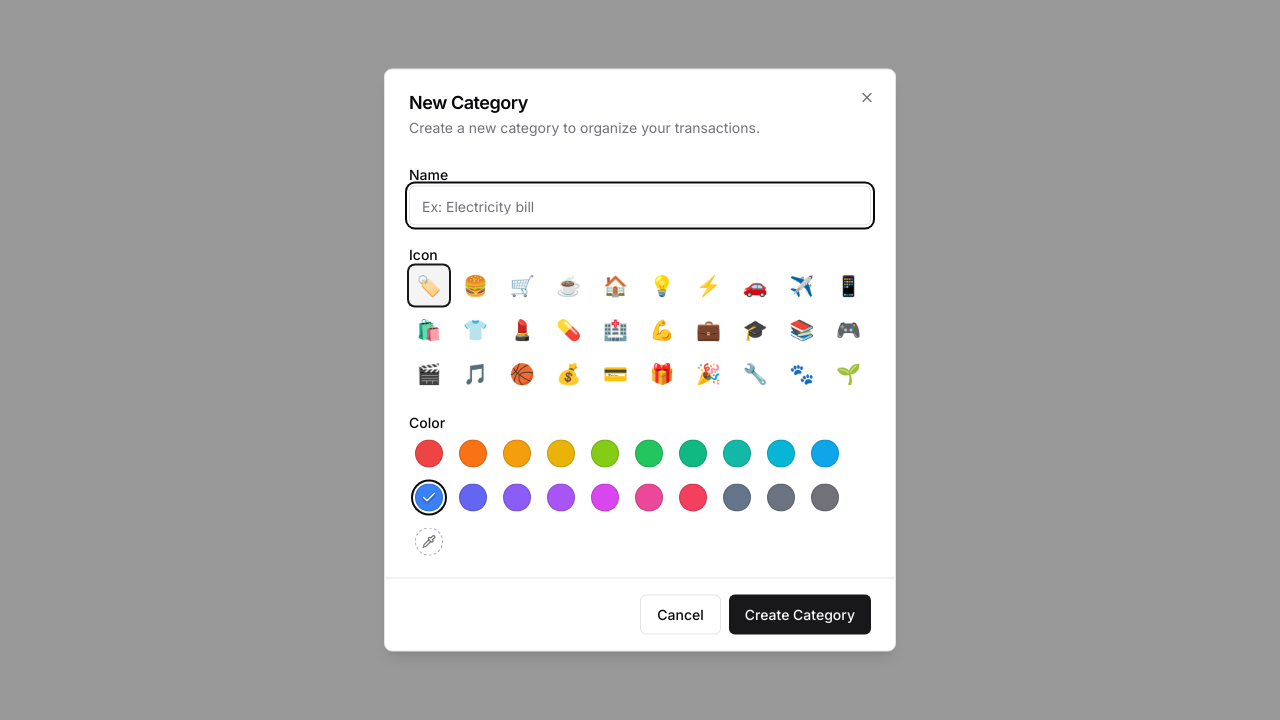
Scenario: CategoryFormModal › shows a validation error for an empty name instead of submitting
What coordinates should you click on to do the following:
click the button "Create Category"
I would click on:
 (800, 614)
Its box is [729, 594, 871, 634].
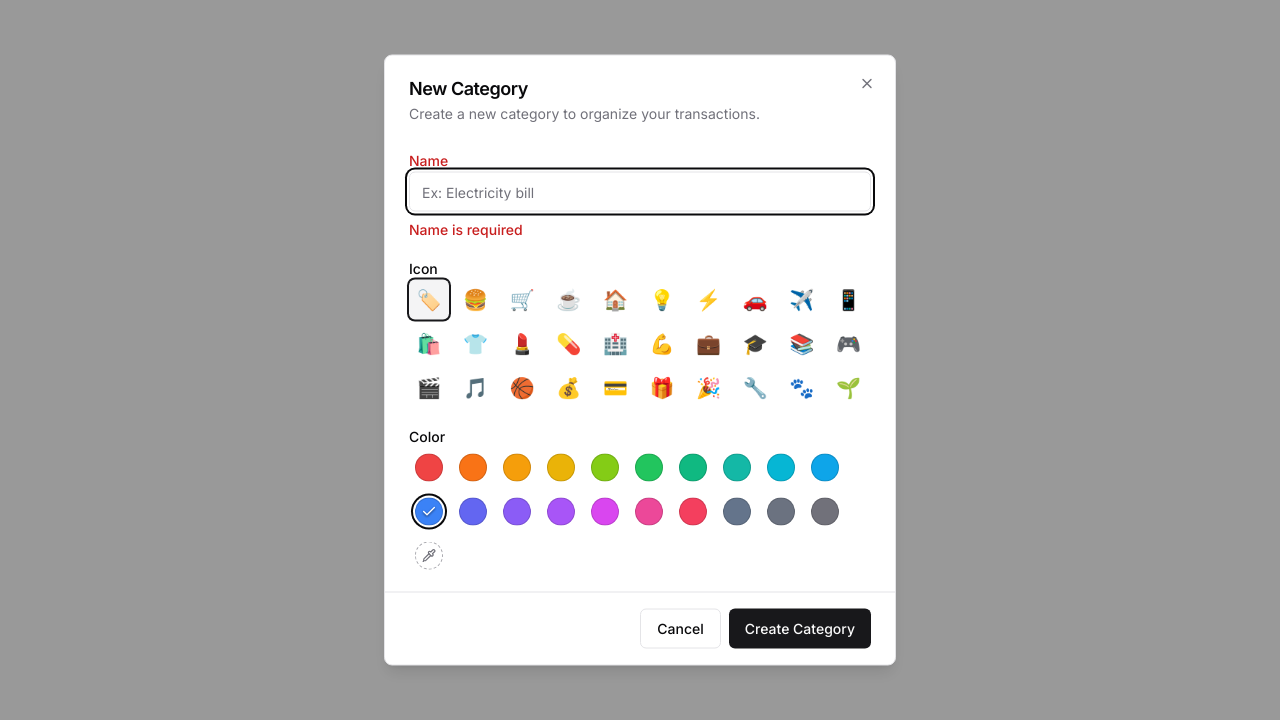
Now the text "Name is required" is shown, box [409, 220, 523, 238]
